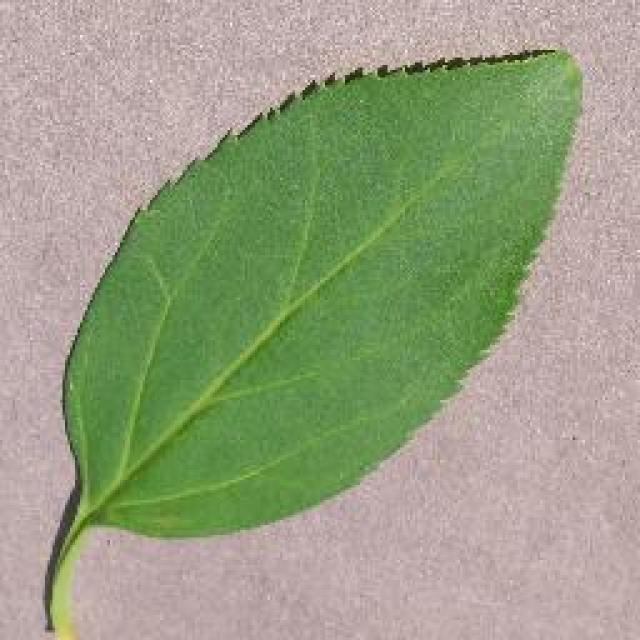Cherry___healthy: (32, 35, 598, 635)
